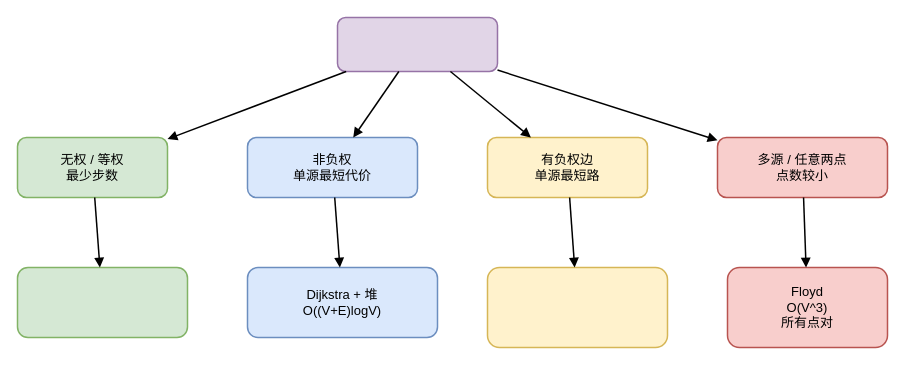
The diagram is 906 pixels wide and 366 high, and some of its shapes have lost their labels. The centre of each missing label's shape, as x and y in pixels:
Bellman-Ford O(VE) 可检测负环: point 577,307
BFS / 多源 BFS O(V+E): point 102,302
先看边权: point 417,44
